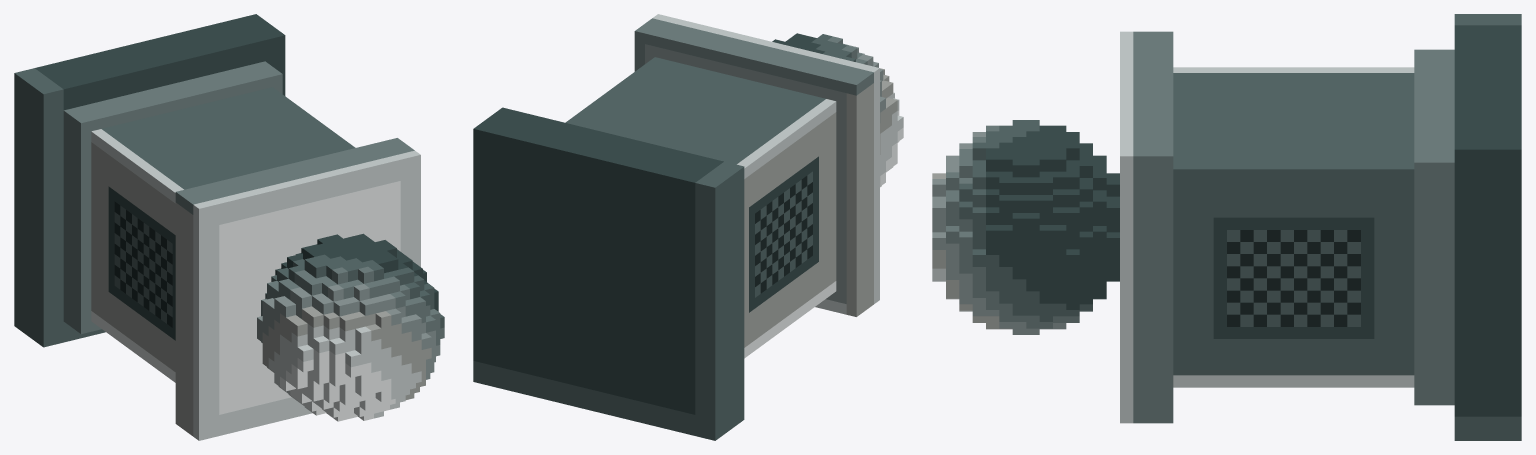
The model's file is stone_pillar_1.obj.
The picture shows the model from 3 angles, left to right: view 1: azimuth 30°, elevation 25°; view 2: azimuth 150°, elevation 25°; view 3: azimuth 270°, elevation 25°; orthographic projection. The views are drawn at different scales.
Size of the model in its own units: 2.4 by 2.4 by 4.4.
